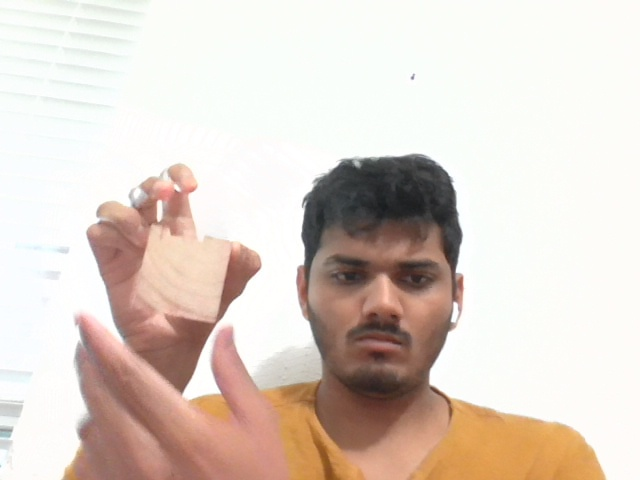NormalBlock: (133, 225, 233, 327)
